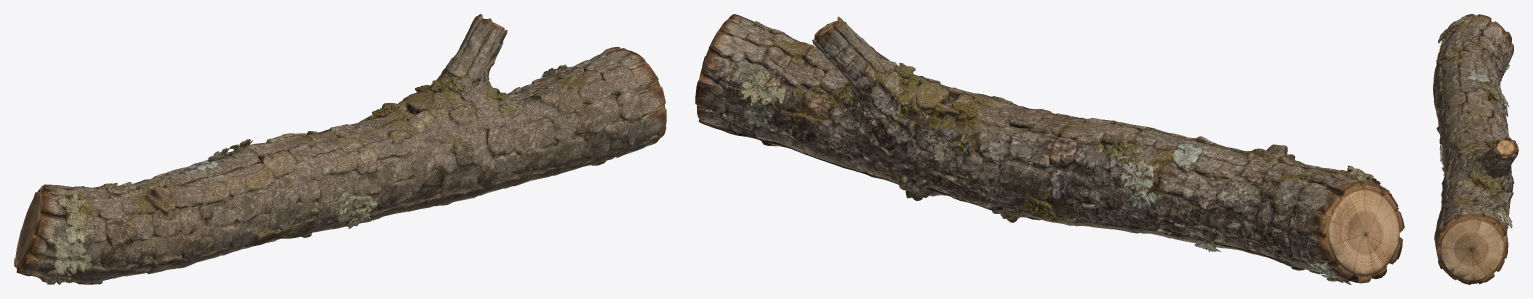
The model's file is log.glb.
3 views of the same model, side by side, from view 1: azimuth 30°, elevation 25°; view 2: azimuth 150°, elevation 25°; view 3: azimuth 270°, elevation 25° (orthographic). The views are drawn at different scales.
Parts seen in each view (by area): view 1: Mesh_0; view 2: Mesh_0; view 3: Mesh_0.
Boxes of the visible parts, x1=… form: Mesh_0: x1=14, y1=14, x2=666, y2=284; Mesh_0: x1=695, y1=14, x2=1404, y2=284; Mesh_0: x1=1433, y1=14, x2=1518, y2=284.
Size of the model in its own units: 0.8345 by 0.2 by 0.1397.
Materials: 1 (1 with a texture image).
